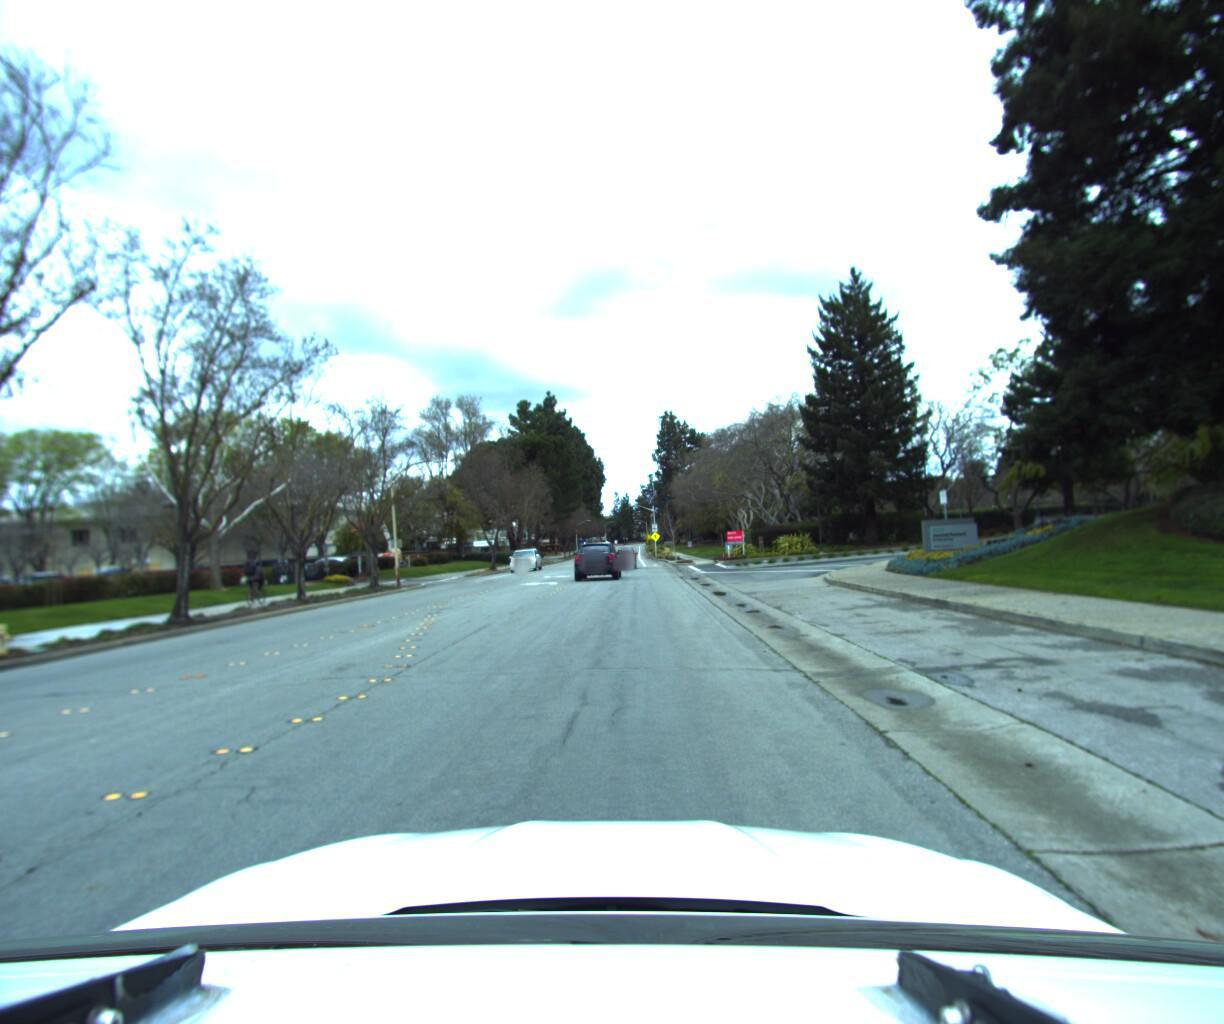bicycle: (238, 560, 278, 607)
car: (571, 533, 622, 575), (507, 545, 544, 571), (610, 540, 640, 565)
